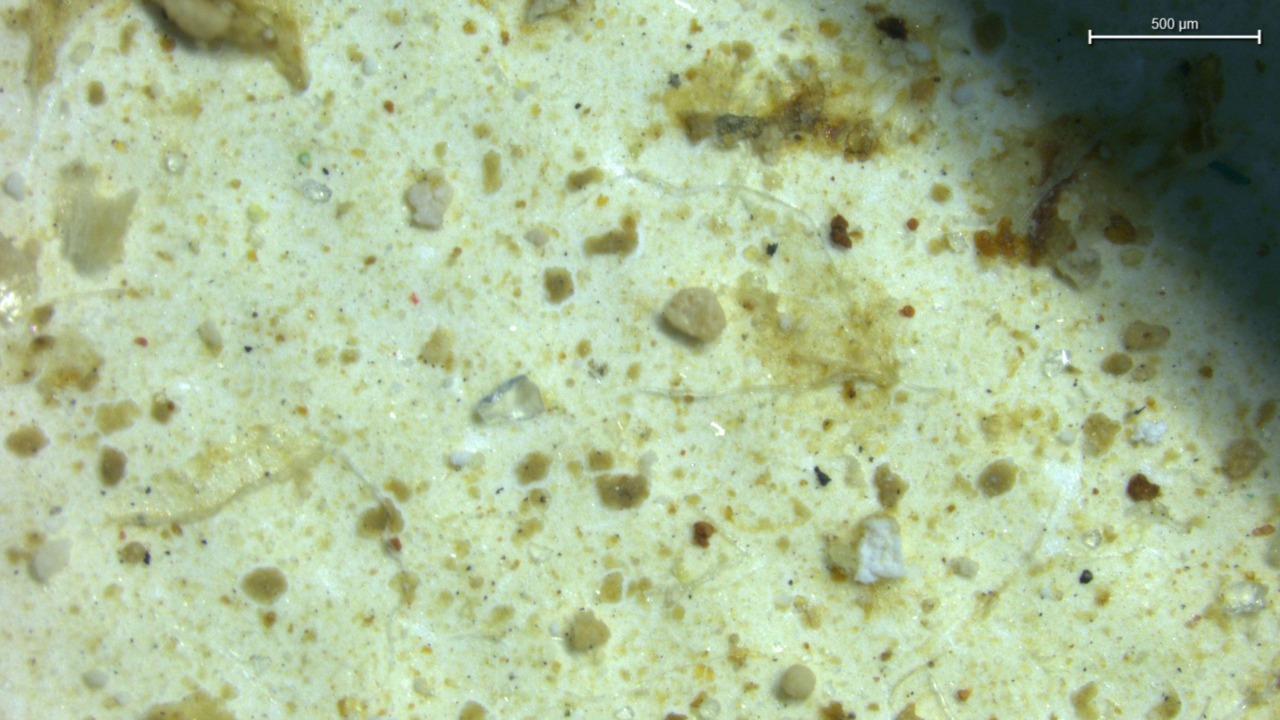microplastic_fragment: (474, 374, 546, 424), (661, 287, 725, 342), (855, 517, 903, 584), (407, 180, 452, 229), (299, 179, 332, 202)
